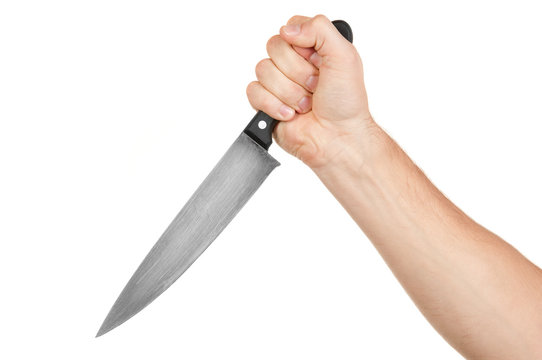knife: (79, 17, 357, 358)
